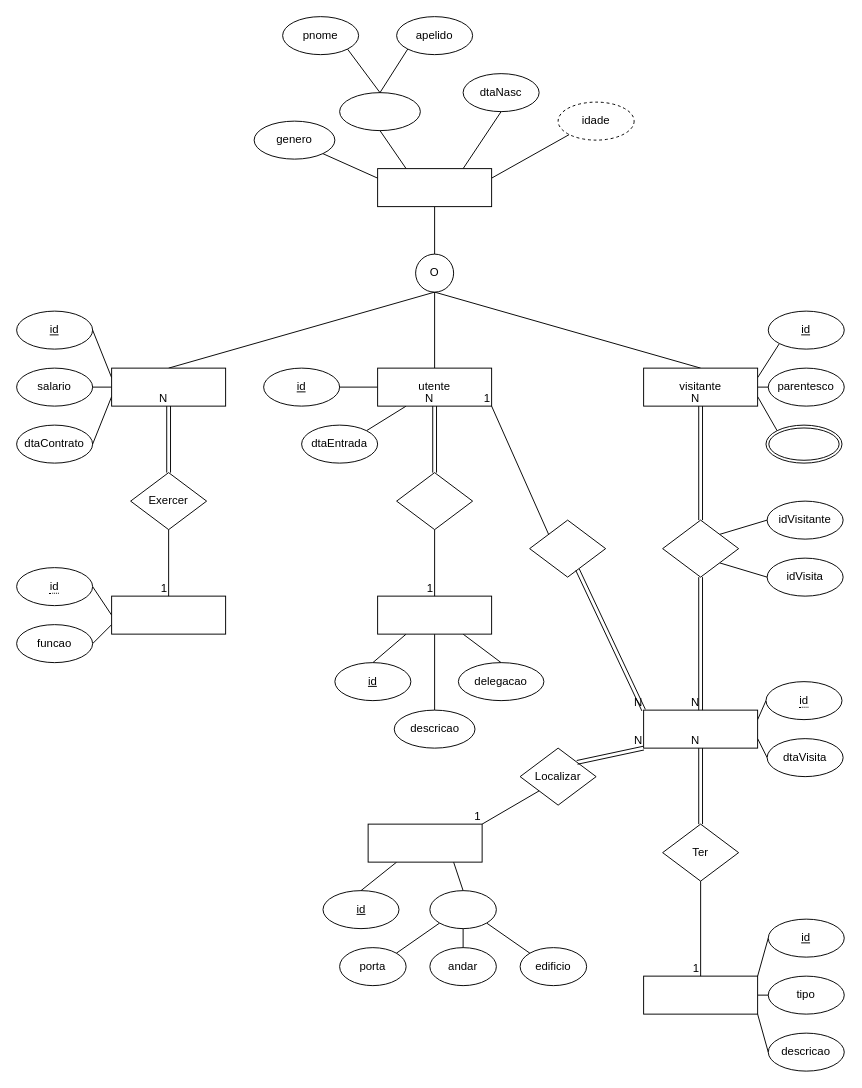
This 862x1088 diagram has some shape labels left out. Each missing label, with the centre of its shape:
"Acolher" belongs at point (434, 501).
"acolhimento" belongs at point (434, 614).
"categoria" belongs at point (168, 614).
"contacto" belongs at point (803, 443).
"funcionário" belongs at point (168, 386).
"localizacao" belongs at point (462, 909).
"nome" belongs at point (379, 111).
"Pessoa" belongs at point (434, 187).
"Receber" belongs at point (567, 548).
"sala" belongs at point (424, 842).
"tipoVisita" belongs at point (700, 994).
"visita" belongs at point (700, 728).
"Visitar" belongs at point (700, 548).
